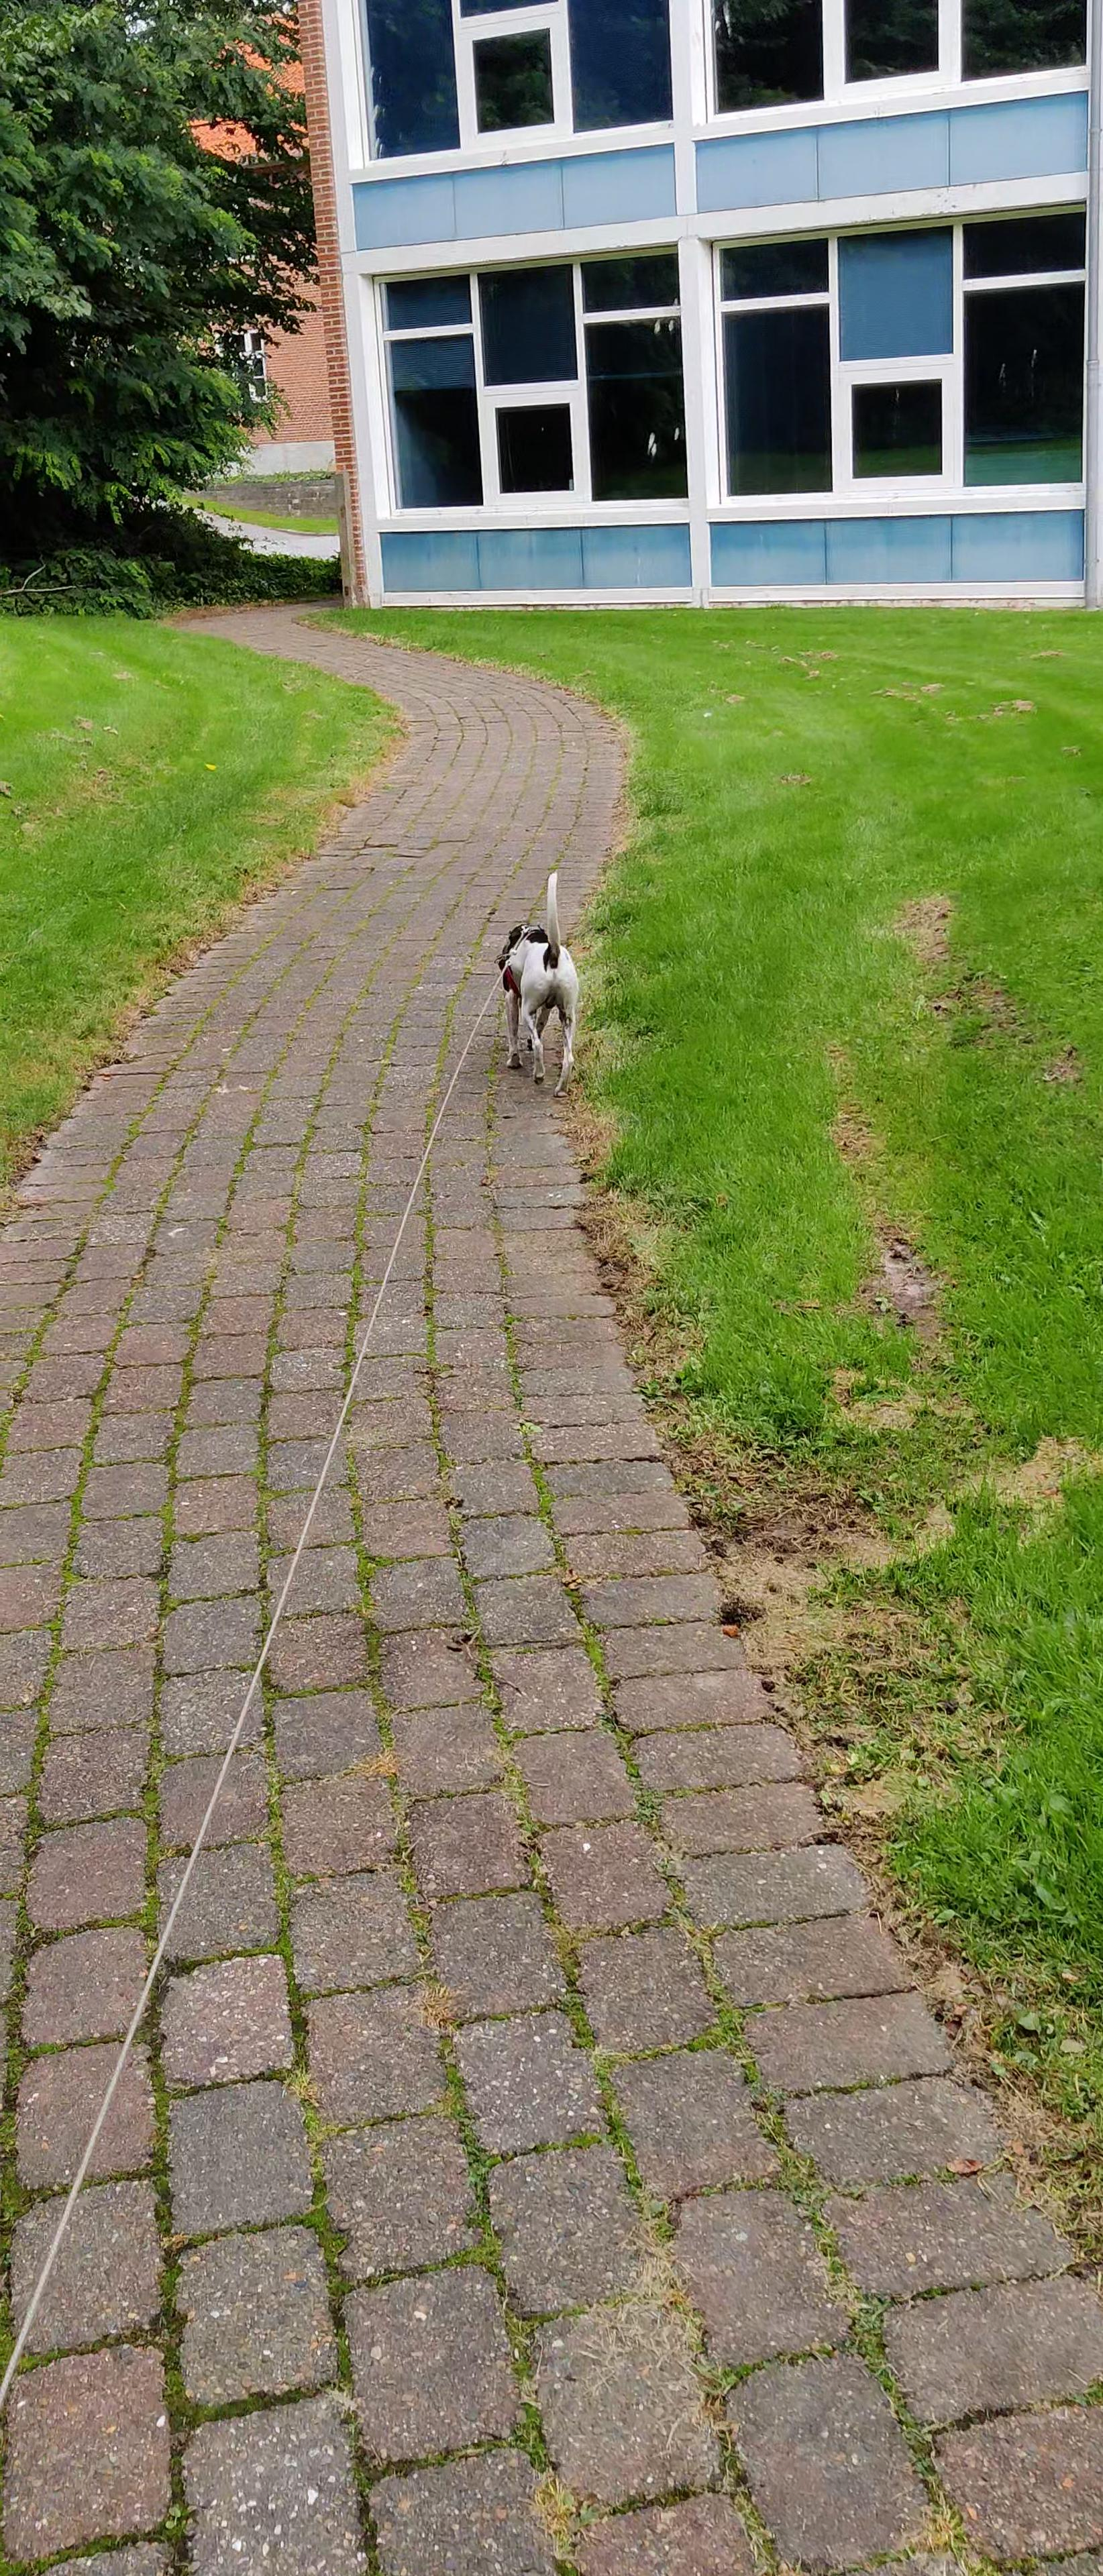Dog: (488, 862, 582, 1106)
